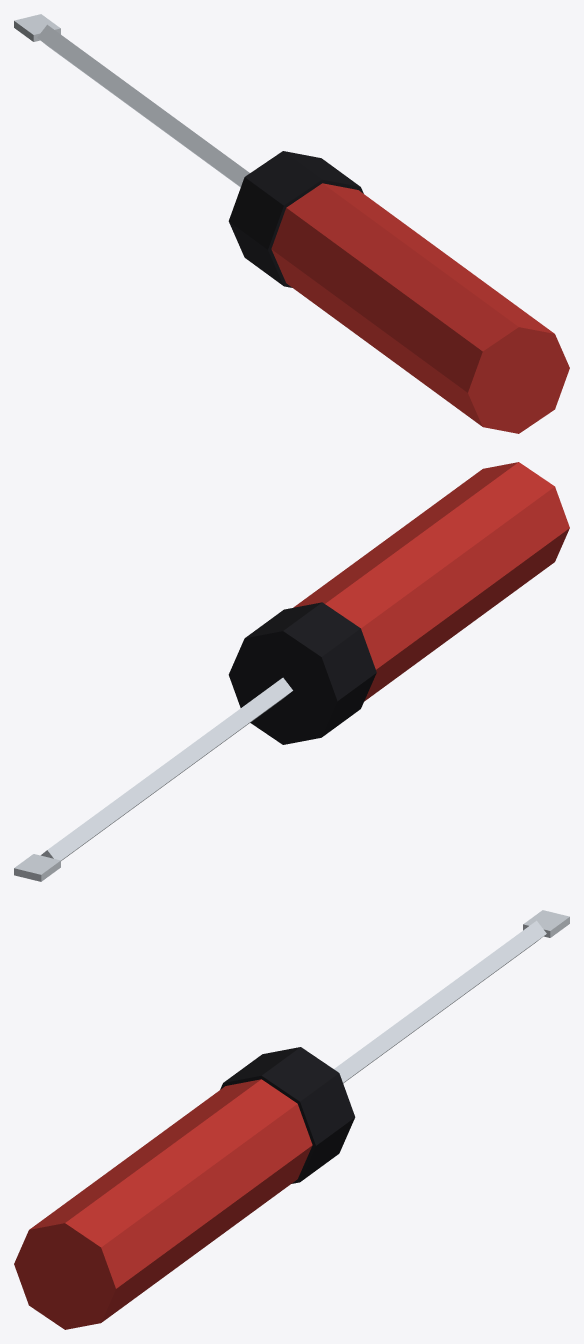
File: Screwdriver.fbx
The picture shows the model from 3 angles, top to bottom: view 1: azimuth 30°, elevation 25°; view 2: azimuth 150°, elevation 25°; view 3: azimuth 330°, elevation 25°; orthographic projection.
Parts seen in each view (by area): view 1: Screwdriver; view 2: Screwdriver; view 3: Screwdriver.
Part boxes in pixels (left/top/right/bottom): Screwdriver: left=14, top=14, right=569, bottom=433; Screwdriver: left=14, top=462, right=569, bottom=881; Screwdriver: left=14, top=910, right=569, bottom=1329.
Bounding box in the file's own units: 0.032 × 0.032 × 0.25.
Materials: 1 (1 with a texture image).
